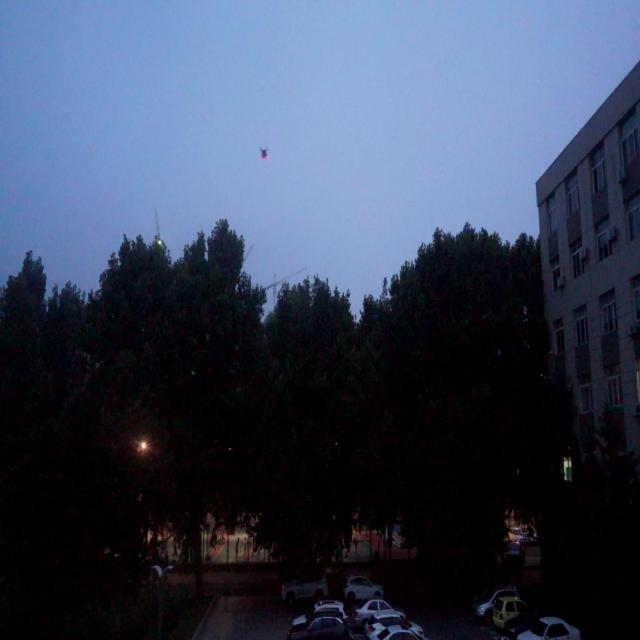drone: (258, 142, 270, 164)
